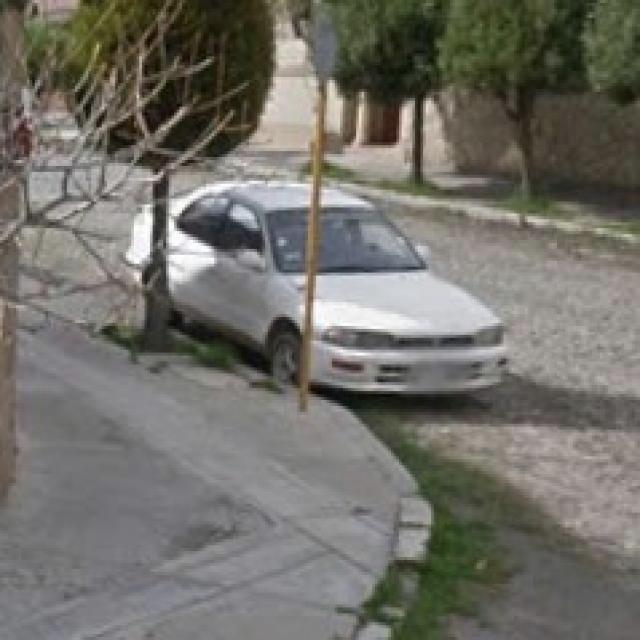Car: (126, 166, 516, 433)
